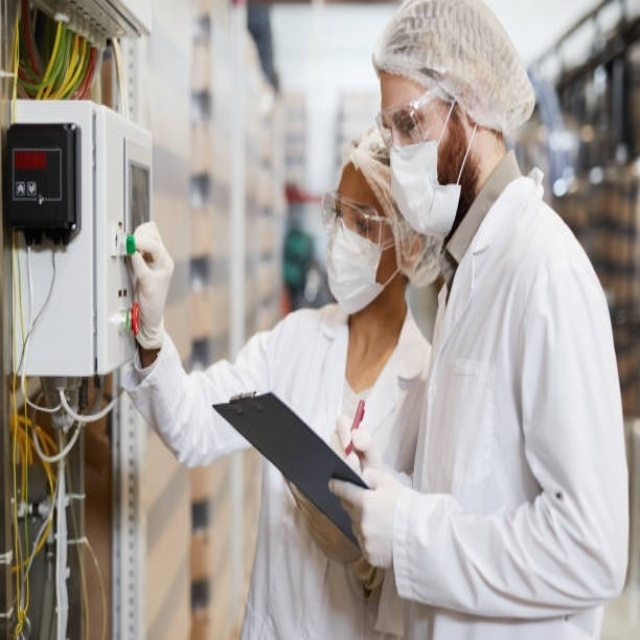Gafas: (375, 83, 462, 153), (322, 190, 399, 249)
Guantes: (328, 466, 406, 573), (127, 221, 173, 351), (334, 413, 372, 475)
Mascara: (388, 101, 466, 240), (325, 201, 399, 315), (404, 266, 443, 349)
